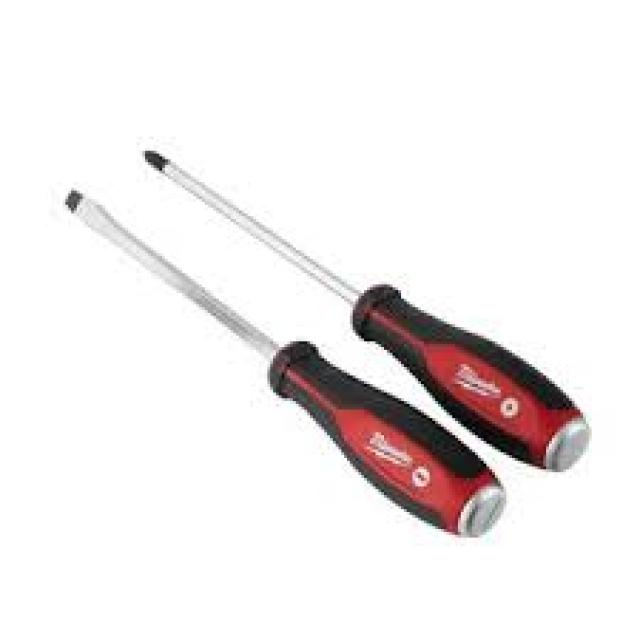screw driver: (32, 136, 589, 584)
